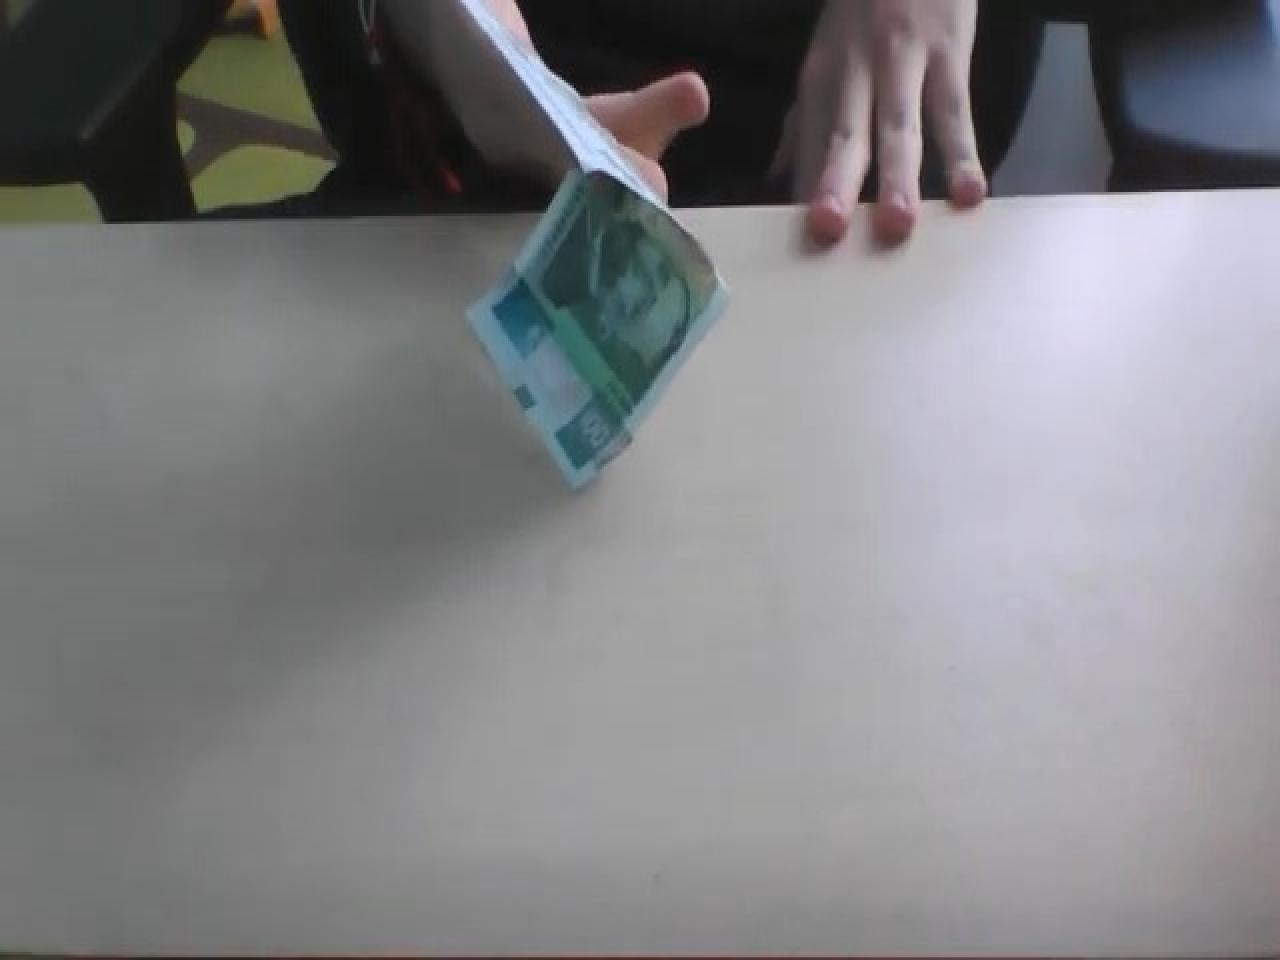100leva: (466, 162, 730, 490)
